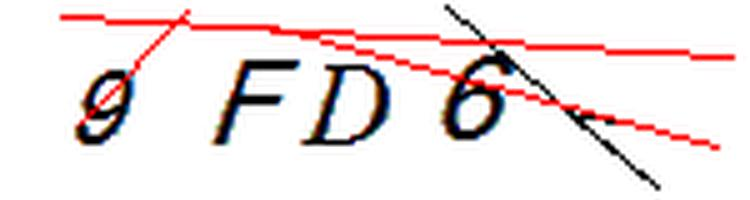6: (434, 47, 525, 145)
9: (67, 62, 143, 151)
D: (298, 56, 397, 152)
F: (208, 50, 305, 151)
